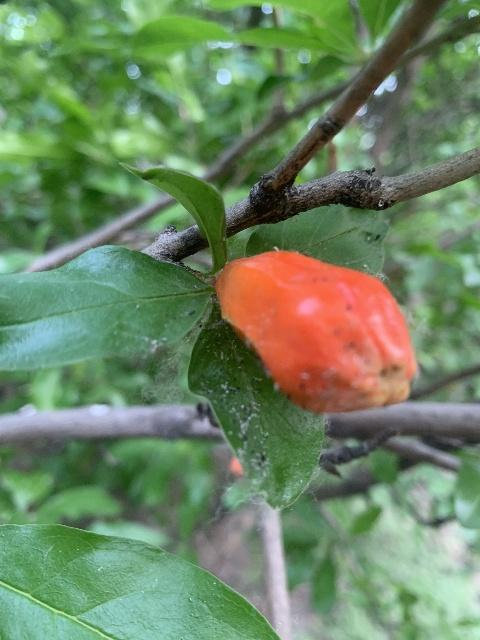bud: (217, 251, 418, 414)
